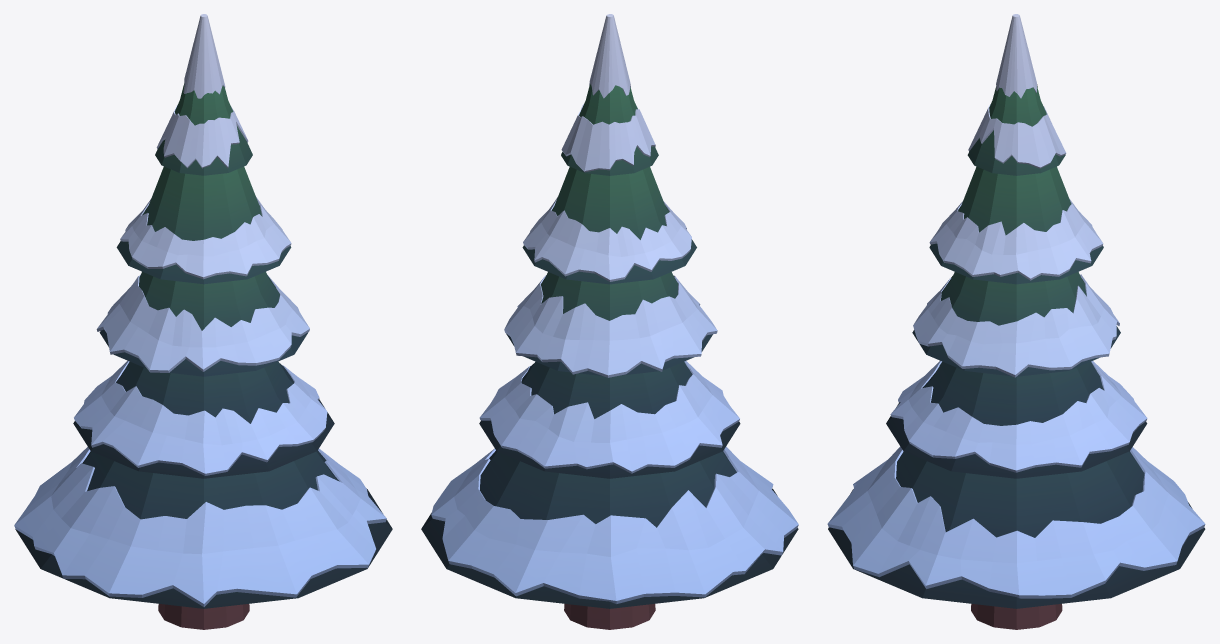
File: treeWhithSnow.fbx
The picture shows the model from 3 angles, left to right: view 1: azimuth 30°, elevation 25°; view 2: azimuth 150°, elevation 25°; view 3: azimuth 270°, elevation 25°; orthographic projection.
Visible parts, largest first — view 1: snow, pinetree; view 2: snow, pinetree; view 3: snow, pinetree.
Part boxes in pixels (<box>): snow: <box>14,14,386,606</box>; pinetree: <box>15,83,392,629</box>; snow: <box>431,14,798,603</box>; pinetree: <box>421,84,798,629</box>; snow: <box>827,14,1205,598</box>; pinetree: <box>828,86,1205,629</box>.
Size of the model in its own units: 1.11 by 1.92 by 1.11.
